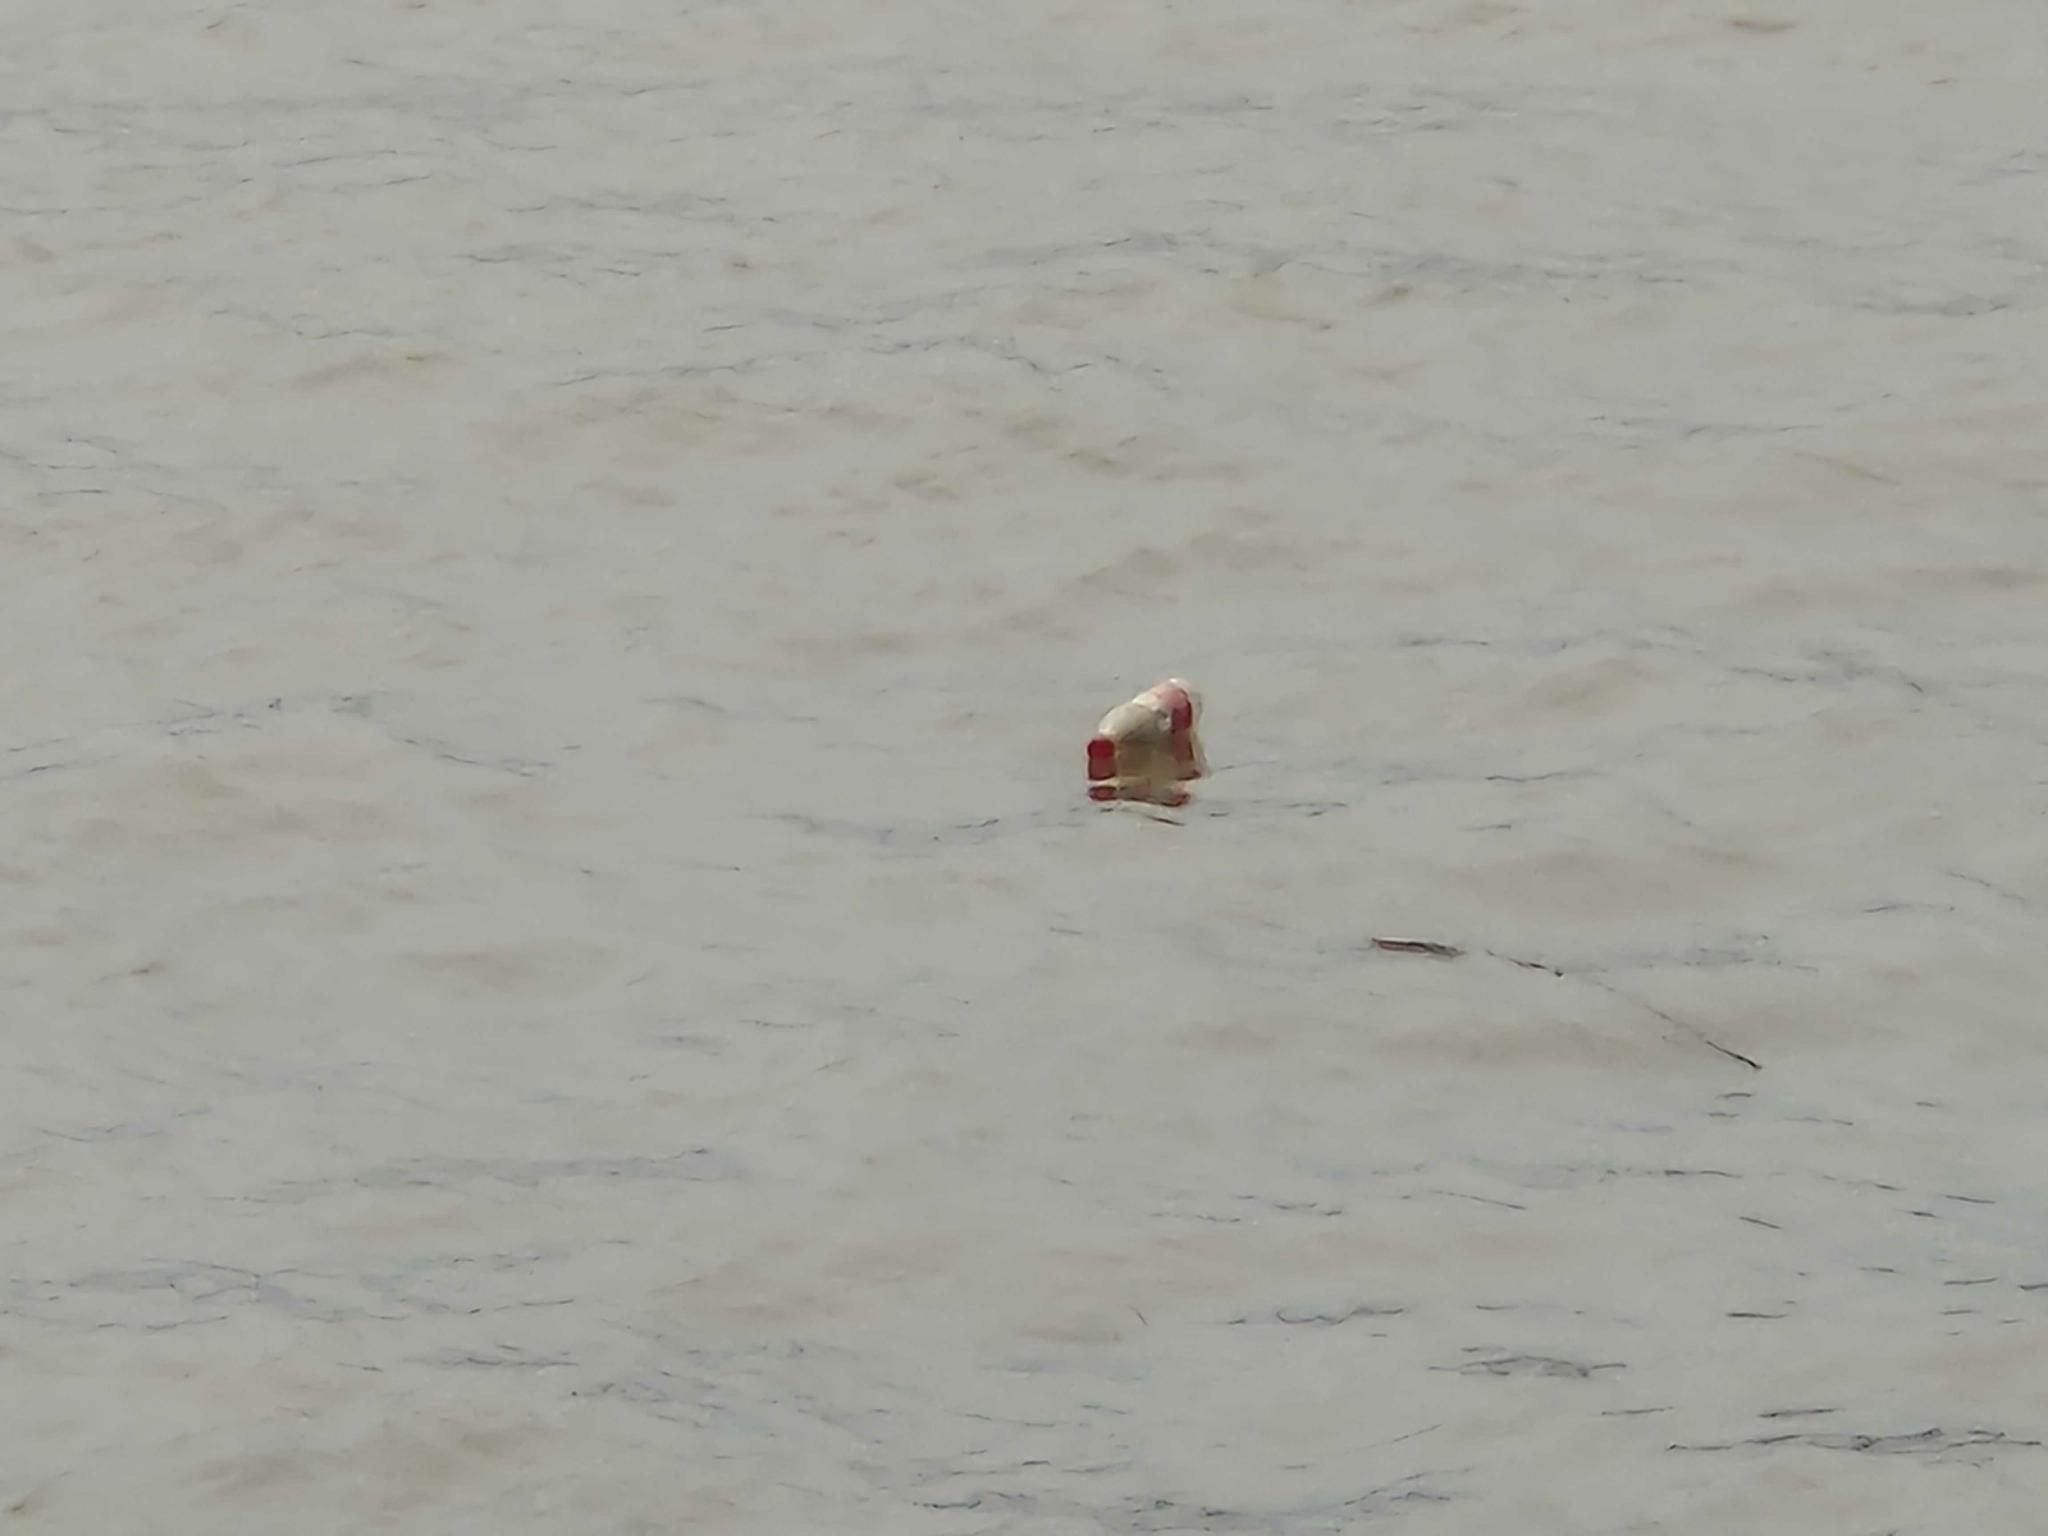Plastic: (1082, 673, 1206, 763)
